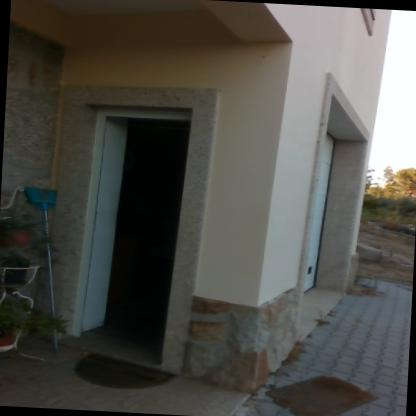open: (56, 97, 218, 374)
